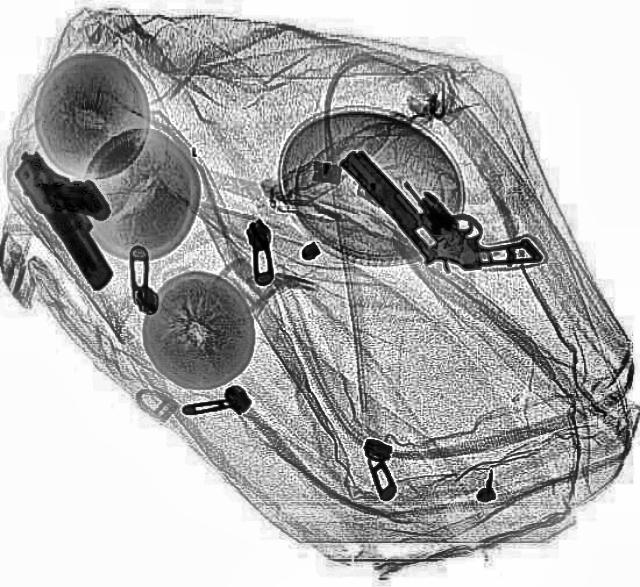Gun: (334, 111, 544, 307), (4, 134, 148, 294)
